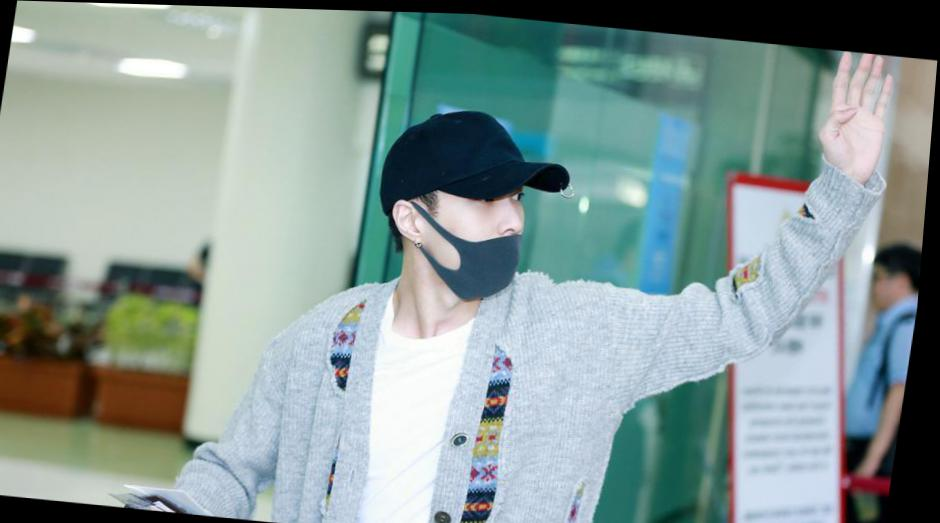NONE: (870, 258, 903, 306)
WRONG: (433, 164, 539, 303)
